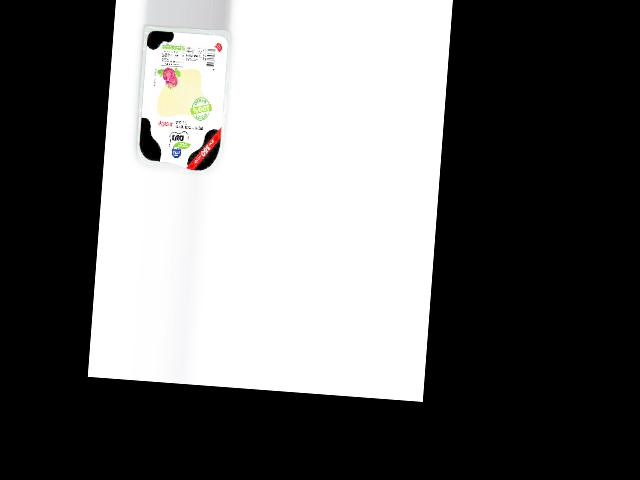cheese: (133, 24, 232, 177)
